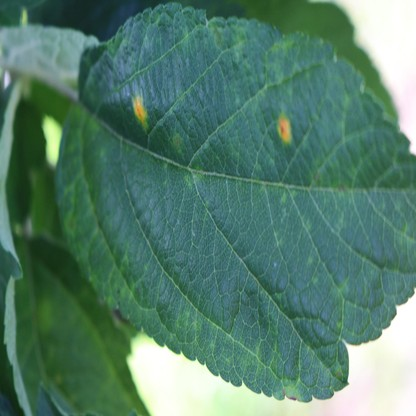rust: (130, 94, 147, 124), (277, 114, 292, 143)
scab: (280, 380, 302, 400), (173, 134, 182, 150), (213, 27, 221, 45), (313, 171, 321, 187), (335, 182, 345, 193), (67, 217, 74, 231)
